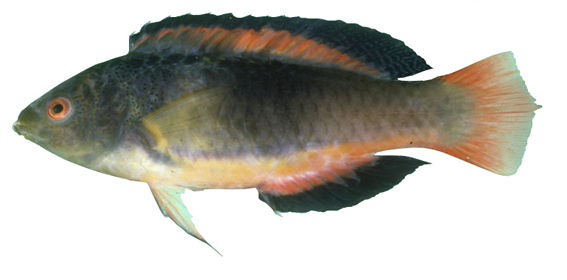fish: (13, 12, 542, 257)
